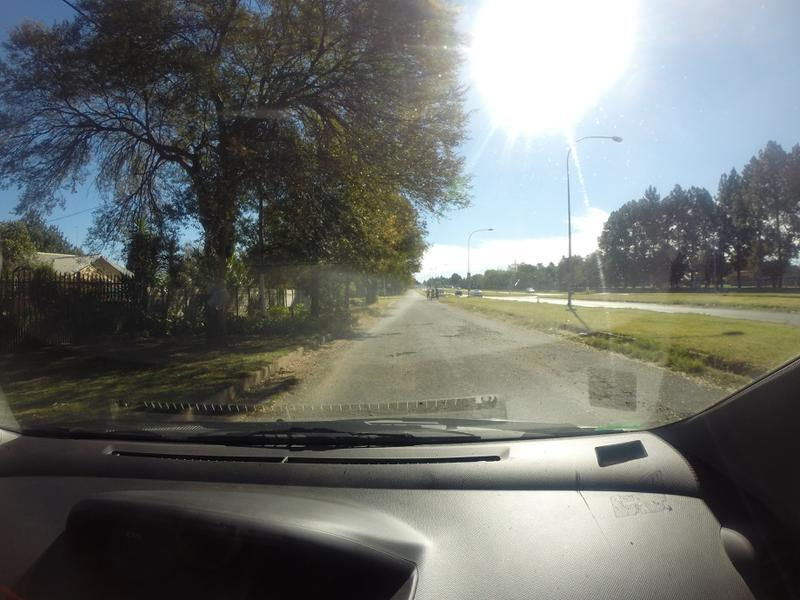pothole: (437, 327, 478, 347), (384, 347, 439, 360)
